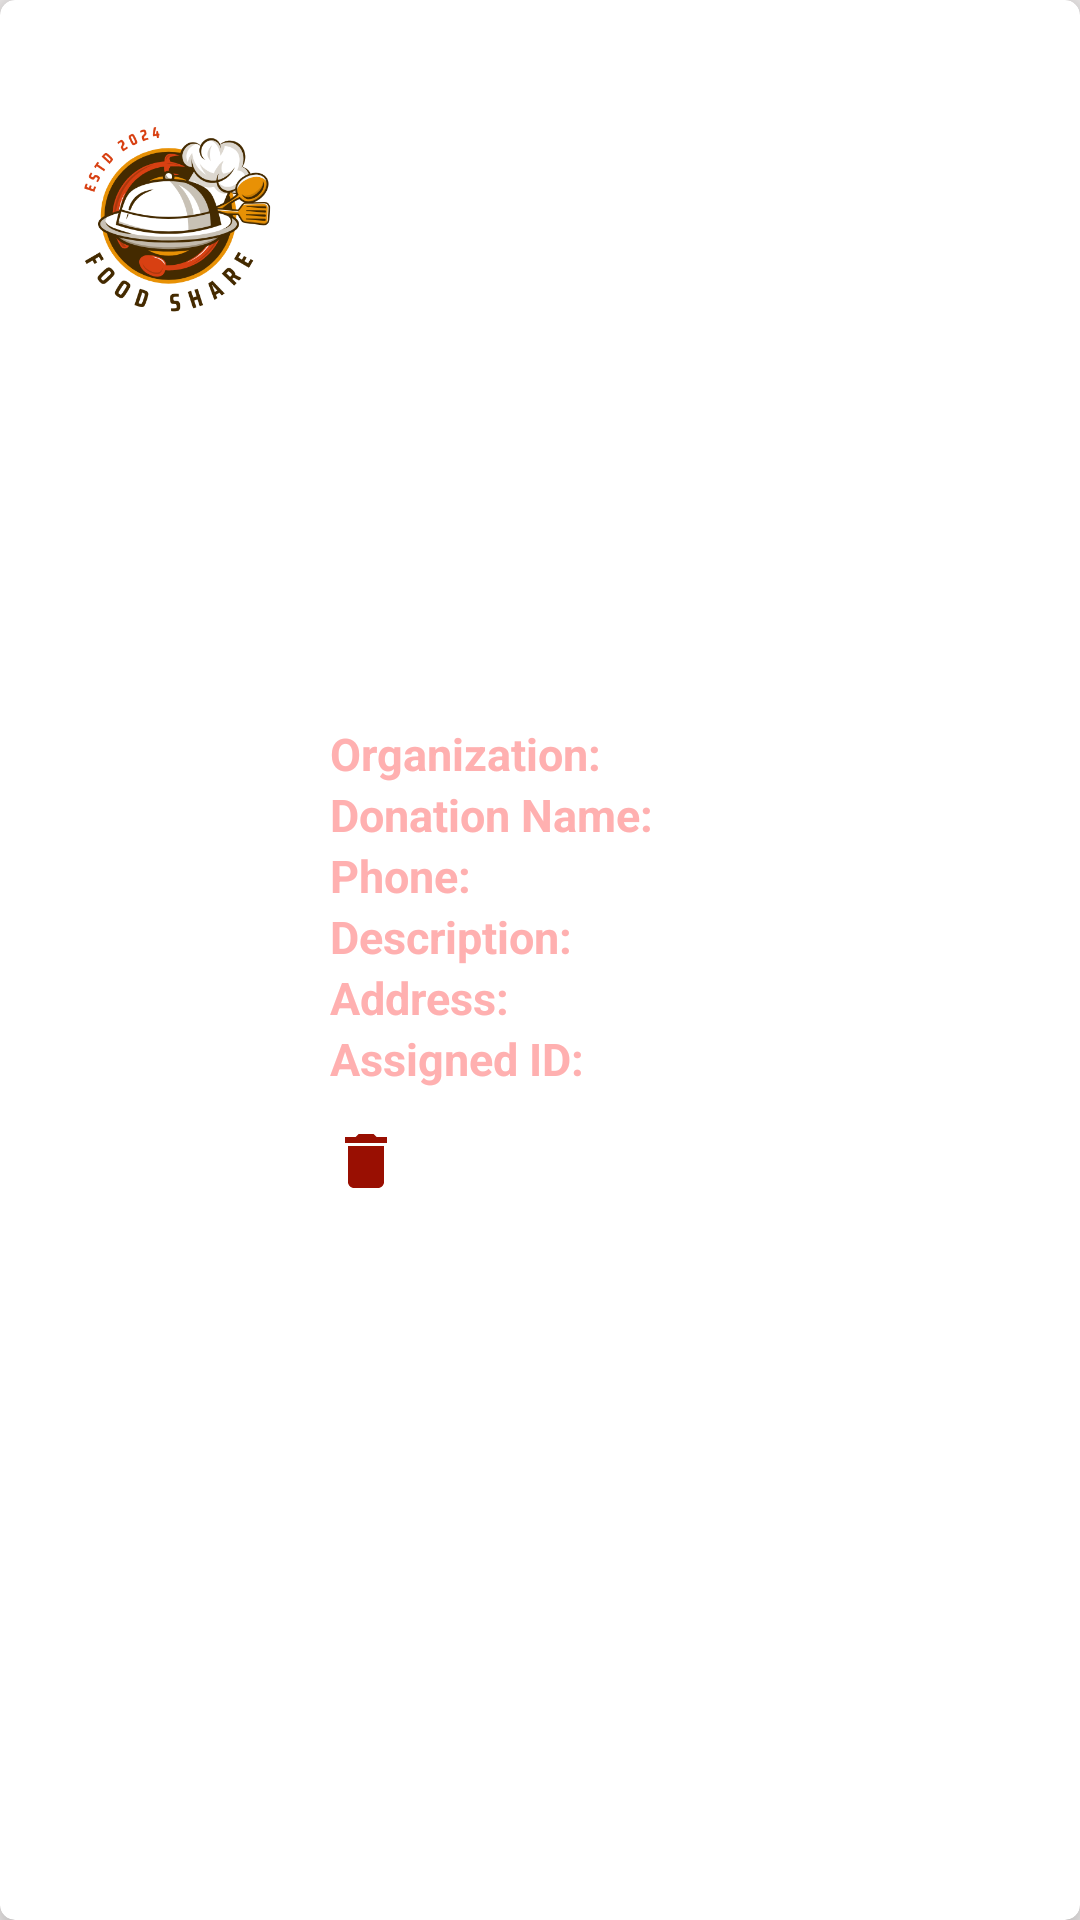

Screen size 1080w x 1920h. Icon name, then its center in pixels as (x=x, y=y):
delete: (x=366, y=1161)
